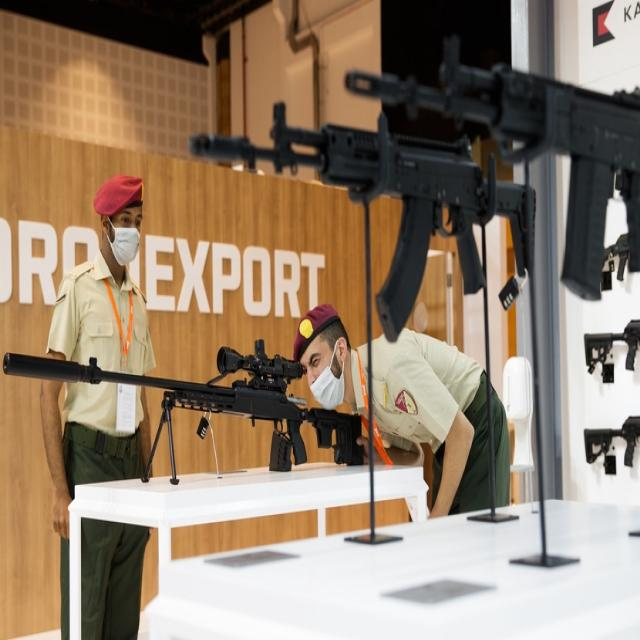firearm: (190, 98, 538, 346), (341, 30, 640, 304), (2, 336, 364, 486), (585, 316, 640, 375), (582, 416, 640, 468), (602, 230, 632, 282)
